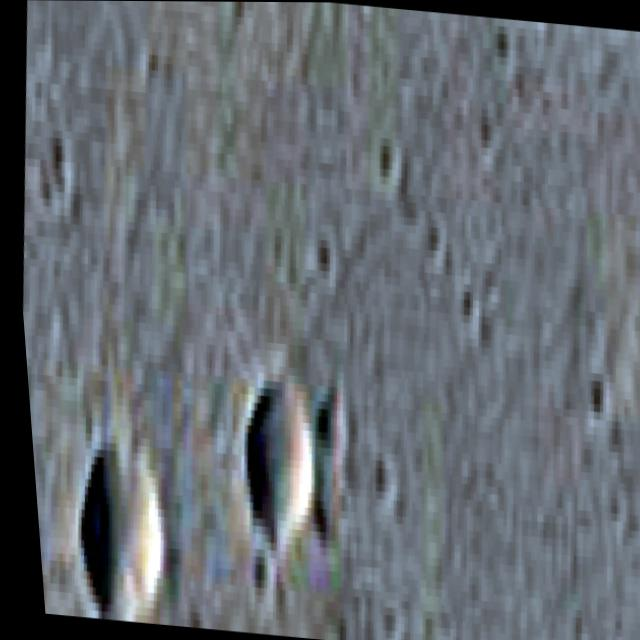Crater: (208, 346, 329, 577), (51, 417, 172, 624)
